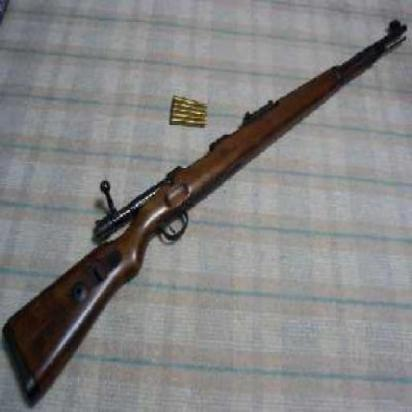Gun: (3, 10, 409, 400)
